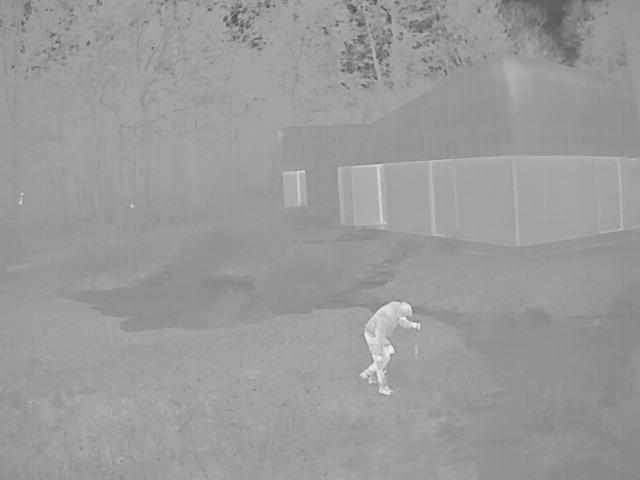person: (360, 300, 422, 397)
